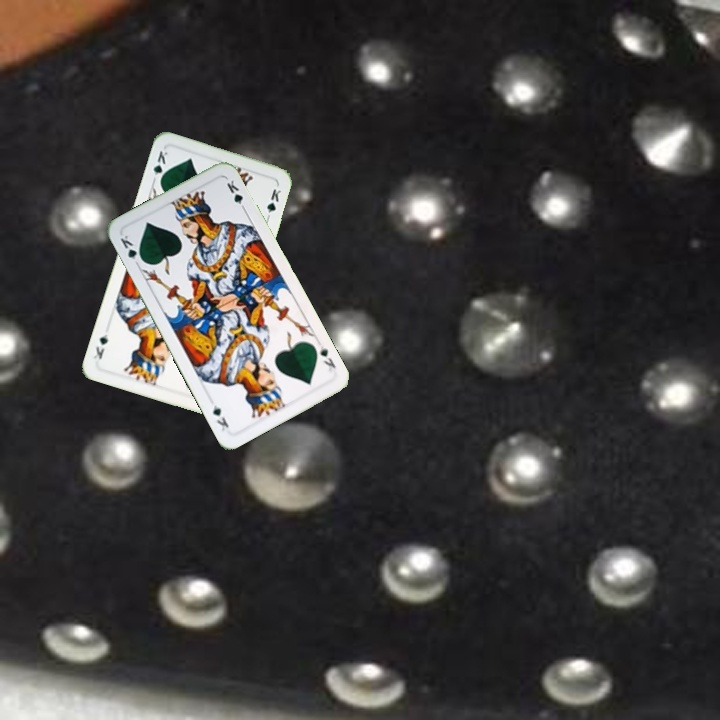GK: (116, 231, 146, 266), (148, 147, 170, 186), (316, 341, 338, 374)
